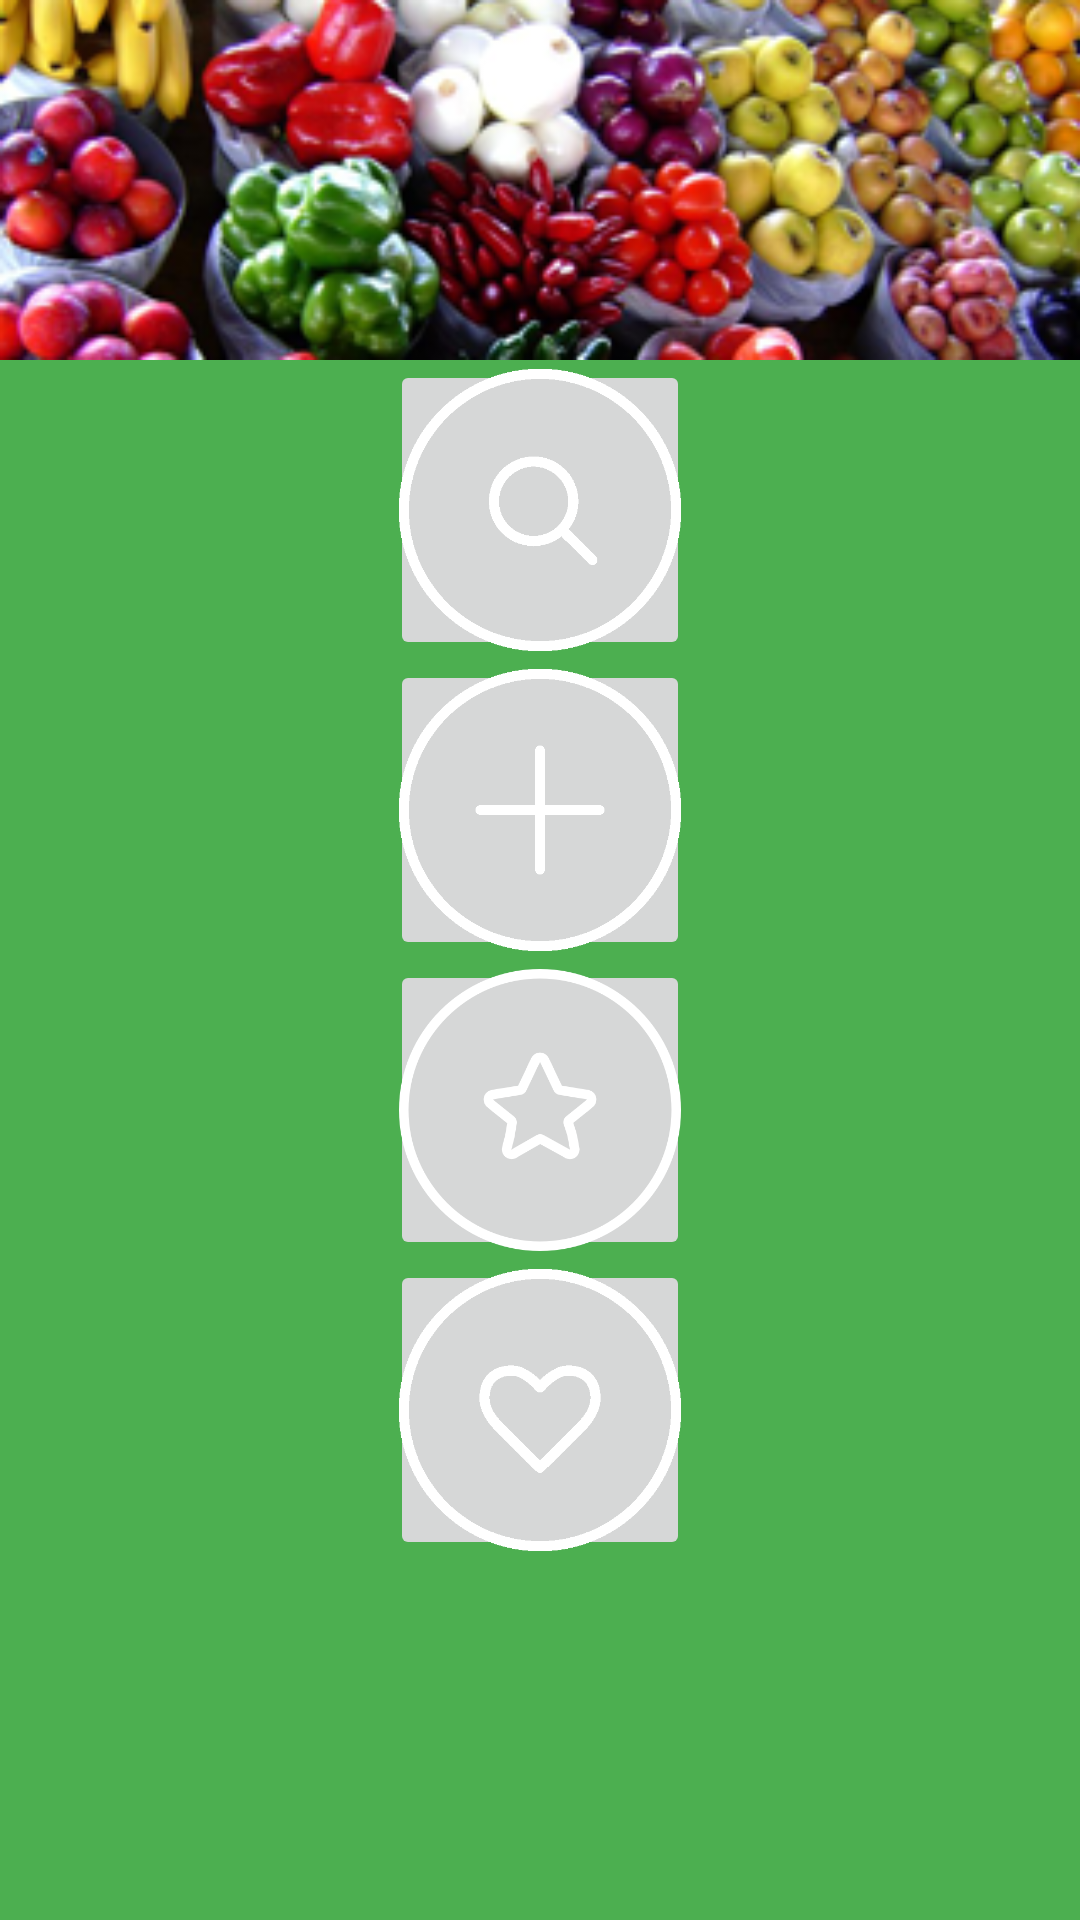

Icon click points for this 1080x1920 phone screenshot, format (x=x, y=y):
add: (x=540, y=810)
favourite: (x=540, y=1110)
like: (x=540, y=1410)
search: (x=540, y=510)
